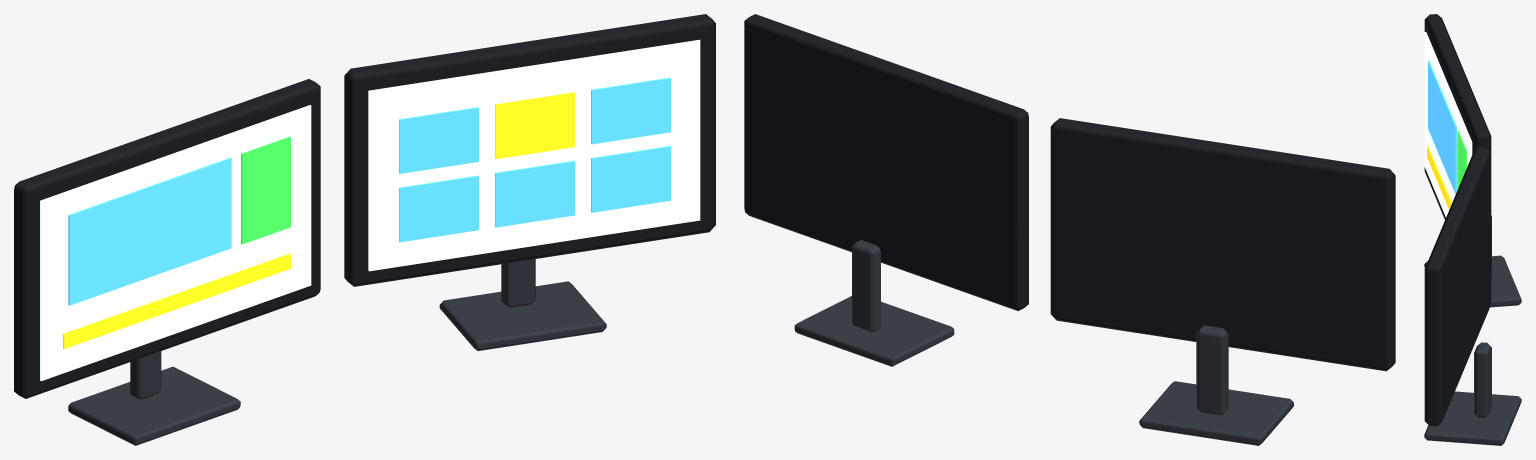
File: station_processing_ausstattung_2_1.glb
3 renders of one model, left to right at view 1: azimuth 30°, elevation 25°; view 2: azimuth 150°, elevation 25°; view 3: azimuth 270°, elevation 25°, orthographic. The views are drawn at different scales.
Parts seen in each view (by area): view 1: station_processing_ausstattung_2_1; view 2: station_processing_ausstattung_2_1; view 3: station_processing_ausstattung_2_1.
Part boxes in pixels (x1=…): station_processing_ausstattung_2_1: x1=14, y1=14, x2=715, y2=445; station_processing_ausstattung_2_1: x1=744, y1=14, x2=1395, y2=445; station_processing_ausstattung_2_1: x1=1424, y1=14, x2=1521, y2=445.
Bounding box in the file's own units: 1.19 × 0.468 × 0.1917.
